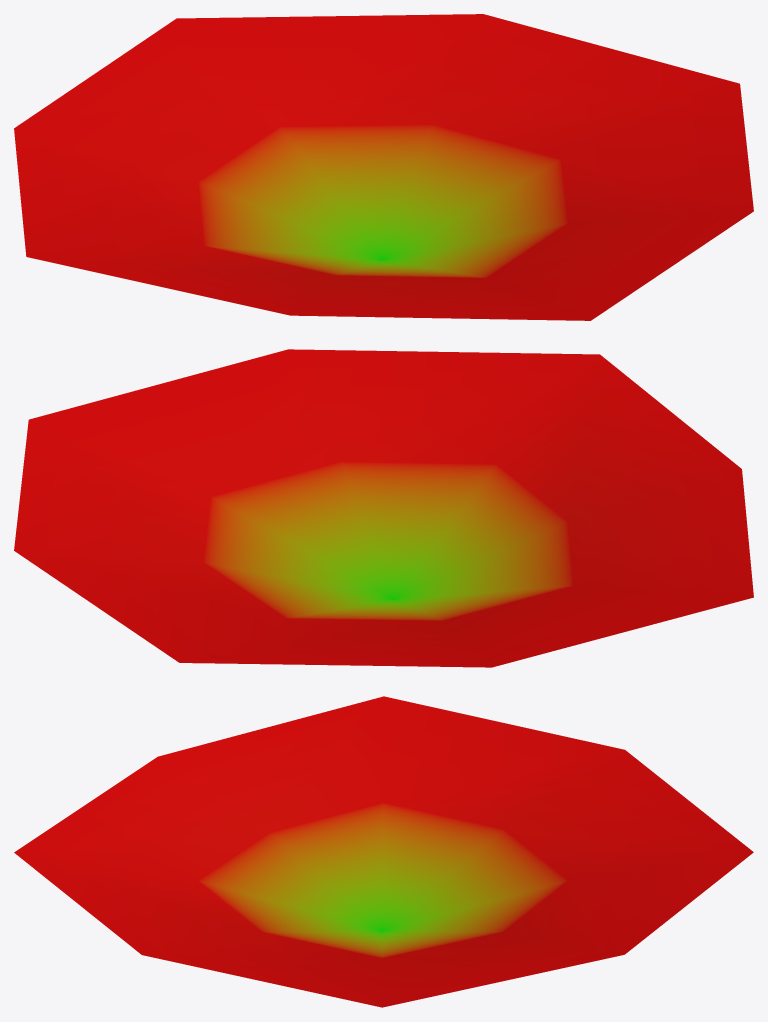
File: Var14_LOD3.fbx
3 views of the same model, one above another, from view 1: azimuth 30°, elevation 25°; view 2: azimuth 150°, elevation 25°; view 3: azimuth 270°, elevation 25° (orthographic). The views are drawn at different scales.
Parts seen in each view (by area): view 1: _wbxb_Var14_LOD3; view 2: _wbxb_Var14_LOD3; view 3: _wbxb_Var14_LOD3.
Boxes of the visible parts, x1,y1,x2,y2 form: _wbxb_Var14_LOD3: (14,14,753,320); _wbxb_Var14_LOD3: (14,349,753,667); _wbxb_Var14_LOD3: (14,696,753,1007).
Size of the model in its own units: 29.46 by 3.52 by 29.6.
